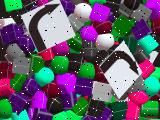Right: (21, 0, 76, 54), (99, 41, 143, 99)
